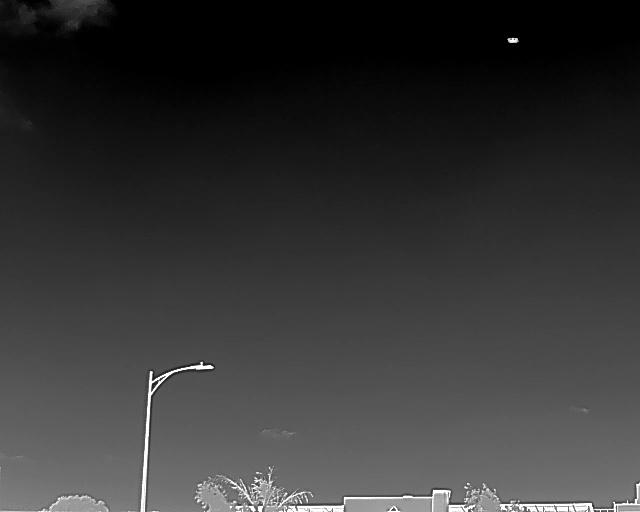fpv-drone: (507, 37, 518, 43)
